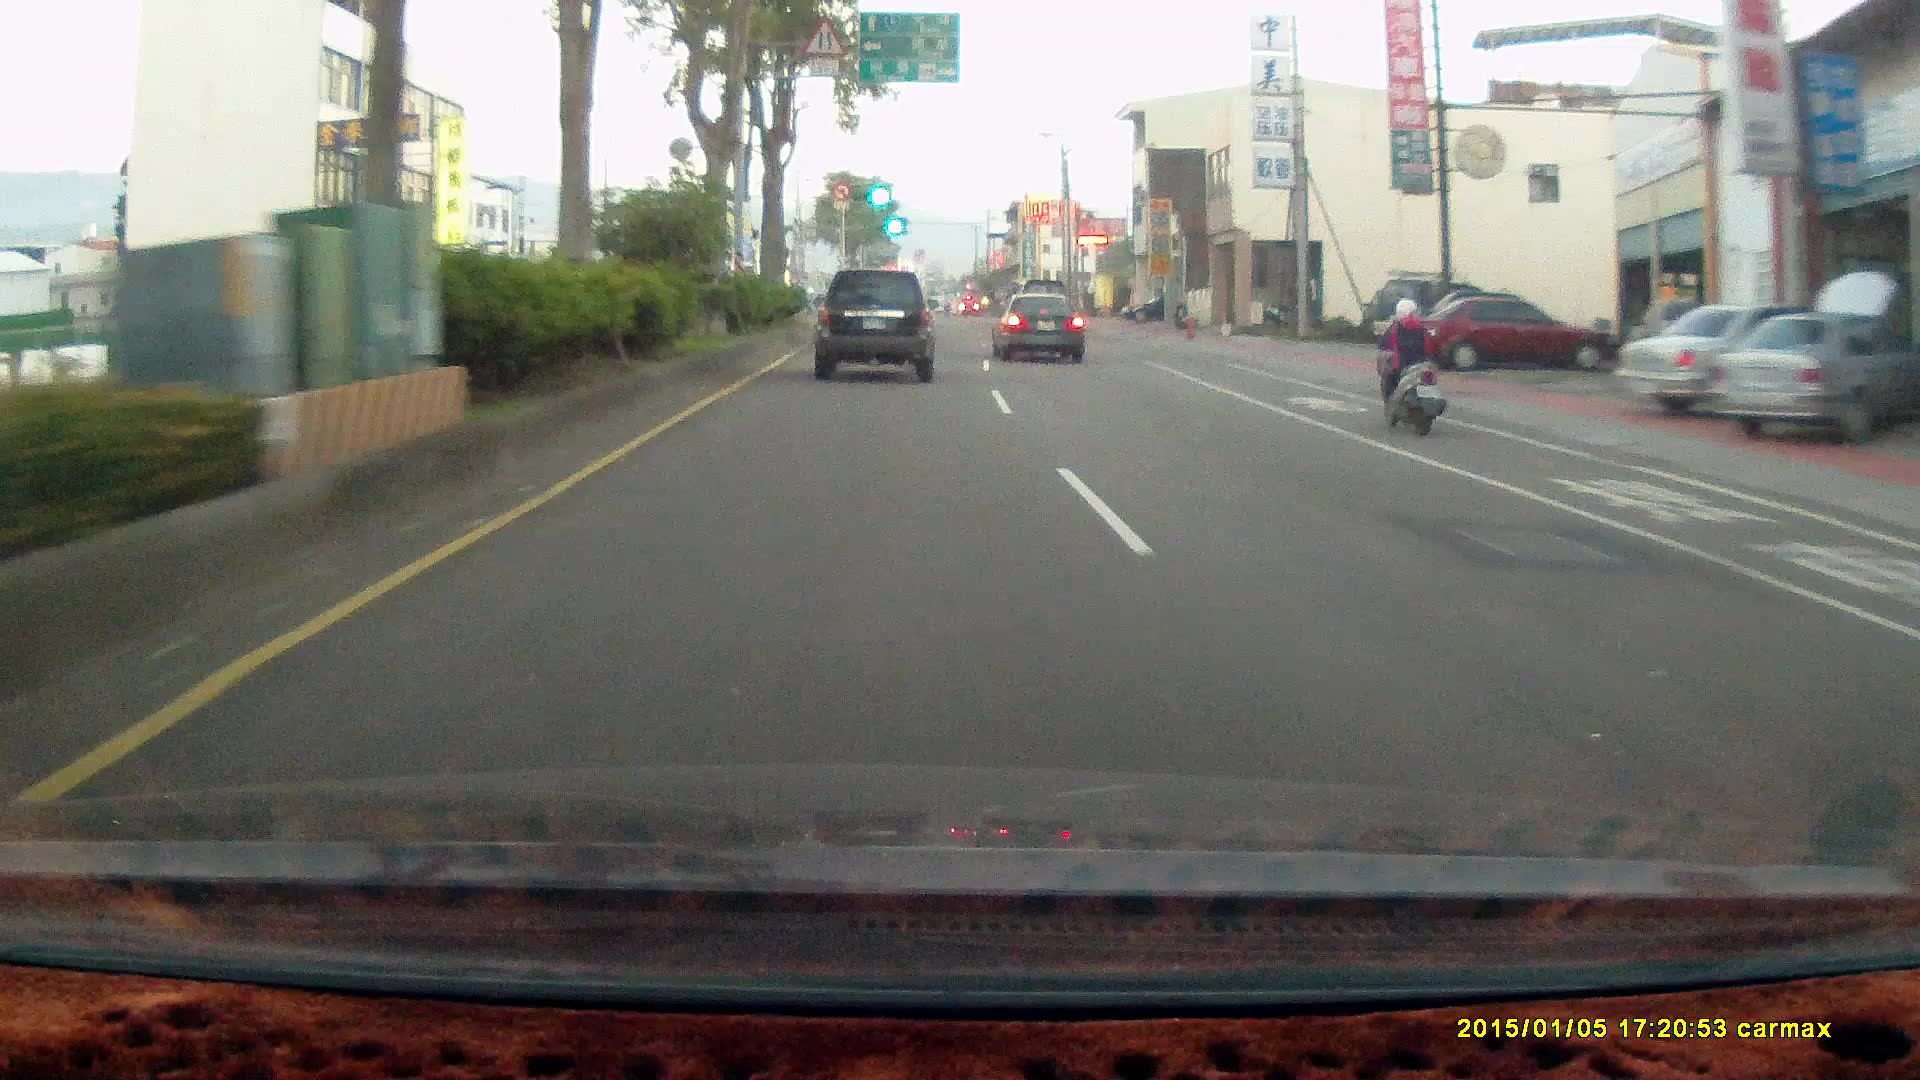rider: (1361, 281, 1458, 447), (1371, 297, 1445, 437)
vehicle: (1701, 314, 1919, 440), (1702, 315, 1920, 442), (1616, 305, 1845, 424), (1402, 297, 1612, 379), (1399, 294, 1618, 371), (812, 272, 940, 388), (814, 267, 936, 381), (1366, 272, 1490, 355), (993, 293, 1088, 364), (990, 290, 1084, 361), (1120, 295, 1189, 323)
